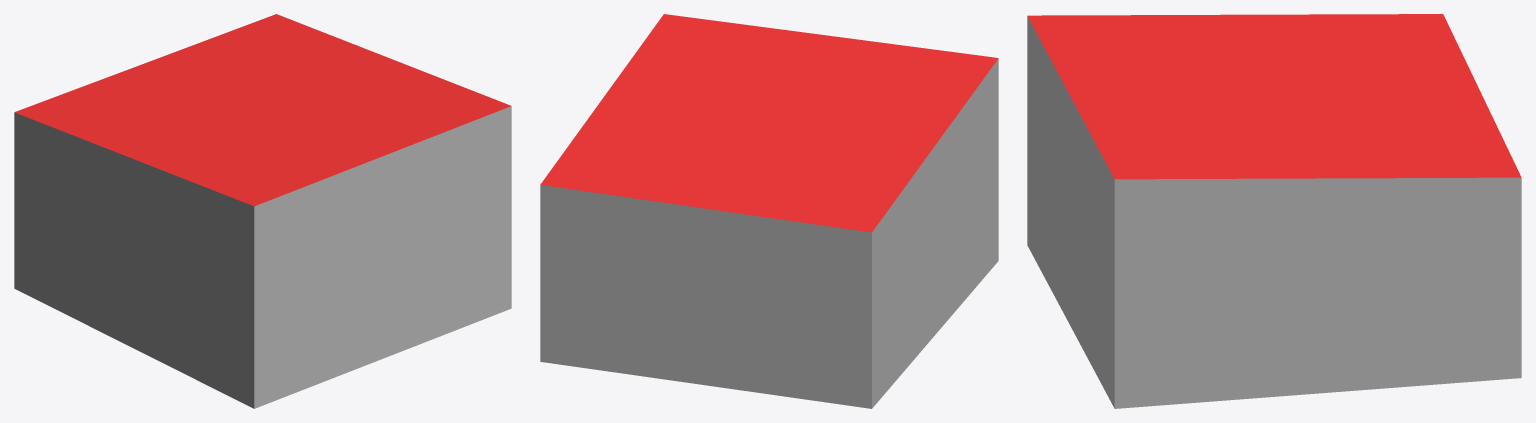
Rendered from DEBY_LOD2_4728168.dae.
3 views of the same model, side by side, from view 1: azimuth 30°, elevation 25°; view 2: azimuth 150°, elevation 25°; view 3: azimuth 270°, elevation 25° (orthographic). The views are drawn at different scales.
Size of the model in its own units: 6.13 by 6.57 by 3.37.
